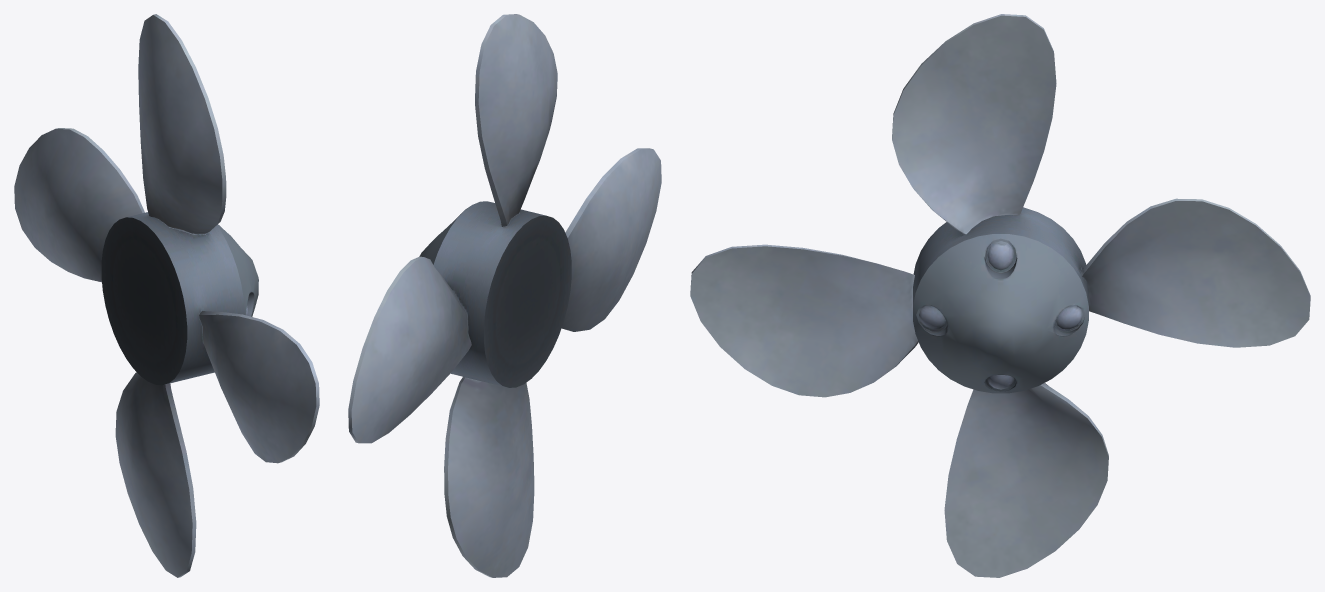
The model's file is FanBlades.DAE.
3 renders of one model, left to right at view 1: azimuth 30°, elevation 25°; view 2: azimuth 150°, elevation 25°; view 3: azimuth 270°, elevation 25°, orthographic. The views are drawn at different scales.
Visible parts, largest first — view 1: blades_PIVOT; view 2: blades_PIVOT; view 3: blades_PIVOT.
Boxes of the visible parts, x1,y1,x2,y2 form: blades_PIVOT: (14, 14, 319, 577); blades_PIVOT: (348, 14, 661, 577); blades_PIVOT: (690, 14, 1310, 577).
Bounding box in the file's own units: 0.2214 × 1.05 × 1.05.
Materials: 2 (2 with a texture image).
